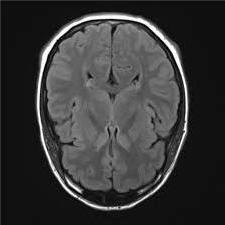Normal_Brain: (20, 18, 202, 225)
